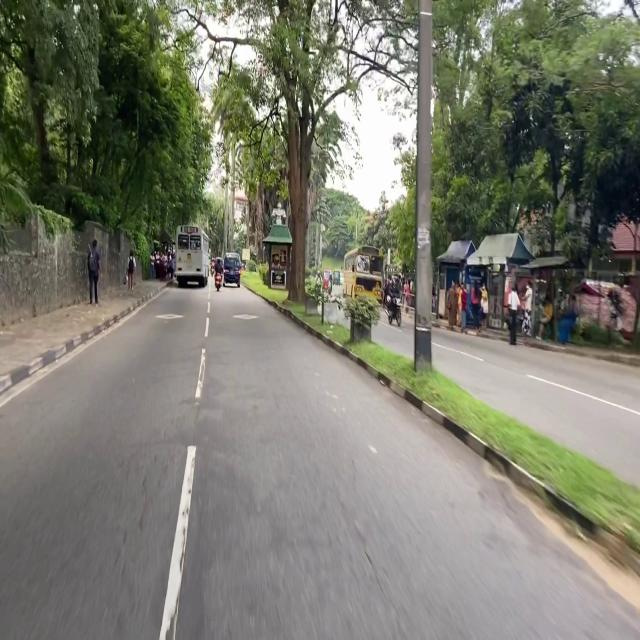bus: (344, 246, 383, 301), (176, 225, 208, 287)
motorcycle: (386, 294, 401, 327), (215, 273, 221, 292)
person: (87, 239, 100, 304), (508, 286, 520, 345), (539, 296, 553, 339), (522, 282, 532, 337), (471, 281, 480, 329), (448, 283, 457, 329), (127, 249, 136, 290), (460, 285, 467, 332), (481, 285, 488, 328), (389, 275, 401, 298), (159, 251, 164, 281), (154, 251, 159, 279), (215, 258, 222, 277), (150, 254, 155, 279), (316, 270, 322, 286), (164, 264, 167, 280), (164, 252, 167, 264)
three wheeler: (323, 270, 331, 289), (333, 270, 340, 286)
van: (224, 253, 241, 287)
